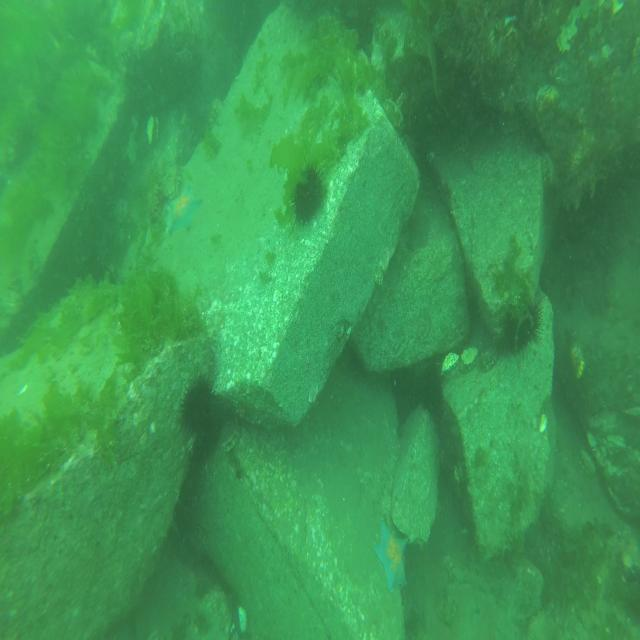echinus: (178, 378, 225, 461), (503, 294, 541, 352), (293, 162, 324, 224), (422, 363, 444, 422)
starfish: (374, 517, 408, 593), (163, 183, 201, 236)
